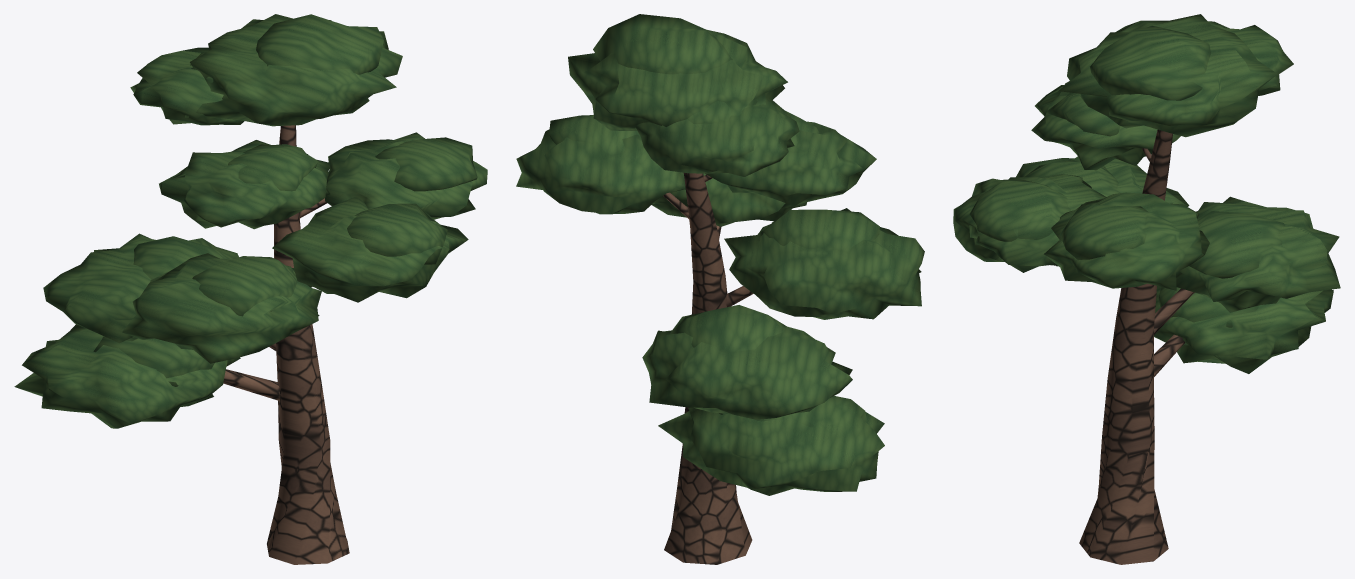
The model's file is HO_Tree_Pine_M.fbx.
3 renders of one model, left to right at view 1: azimuth 30°, elevation 25°; view 2: azimuth 150°, elevation 25°; view 3: azimuth 270°, elevation 25°, orthographic. The views are drawn at different scales.
Visible parts, largest first — view 1: HO_Tree_Pine_M__Pine_Needles, HO_Tree_Pine_M__Pine_Bark; view 2: HO_Tree_Pine_M__Pine_Needles, HO_Tree_Pine_M__Pine_Bark; view 3: HO_Tree_Pine_M__Pine_Needles, HO_Tree_Pine_M__Pine_Bark.
Boxes of the visible parts, <box> form: HO_Tree_Pine_M__Pine_Needles: <box>14,14,487,428</box>; HO_Tree_Pine_M__Pine_Bark: <box>223,125,349,564</box>; HO_Tree_Pine_M__Pine_Needles: <box>516,14,924,495</box>; HO_Tree_Pine_M__Pine_Bark: <box>663,172,753,564</box>; HO_Tree_Pine_M__Pine_Needles: <box>953,14,1340,373</box>; HO_Tree_Pine_M__Pine_Bark: <box>1079,129,1194,564</box>.
Size of the model in its own units: 12.54 by 15.45 by 10.48.
